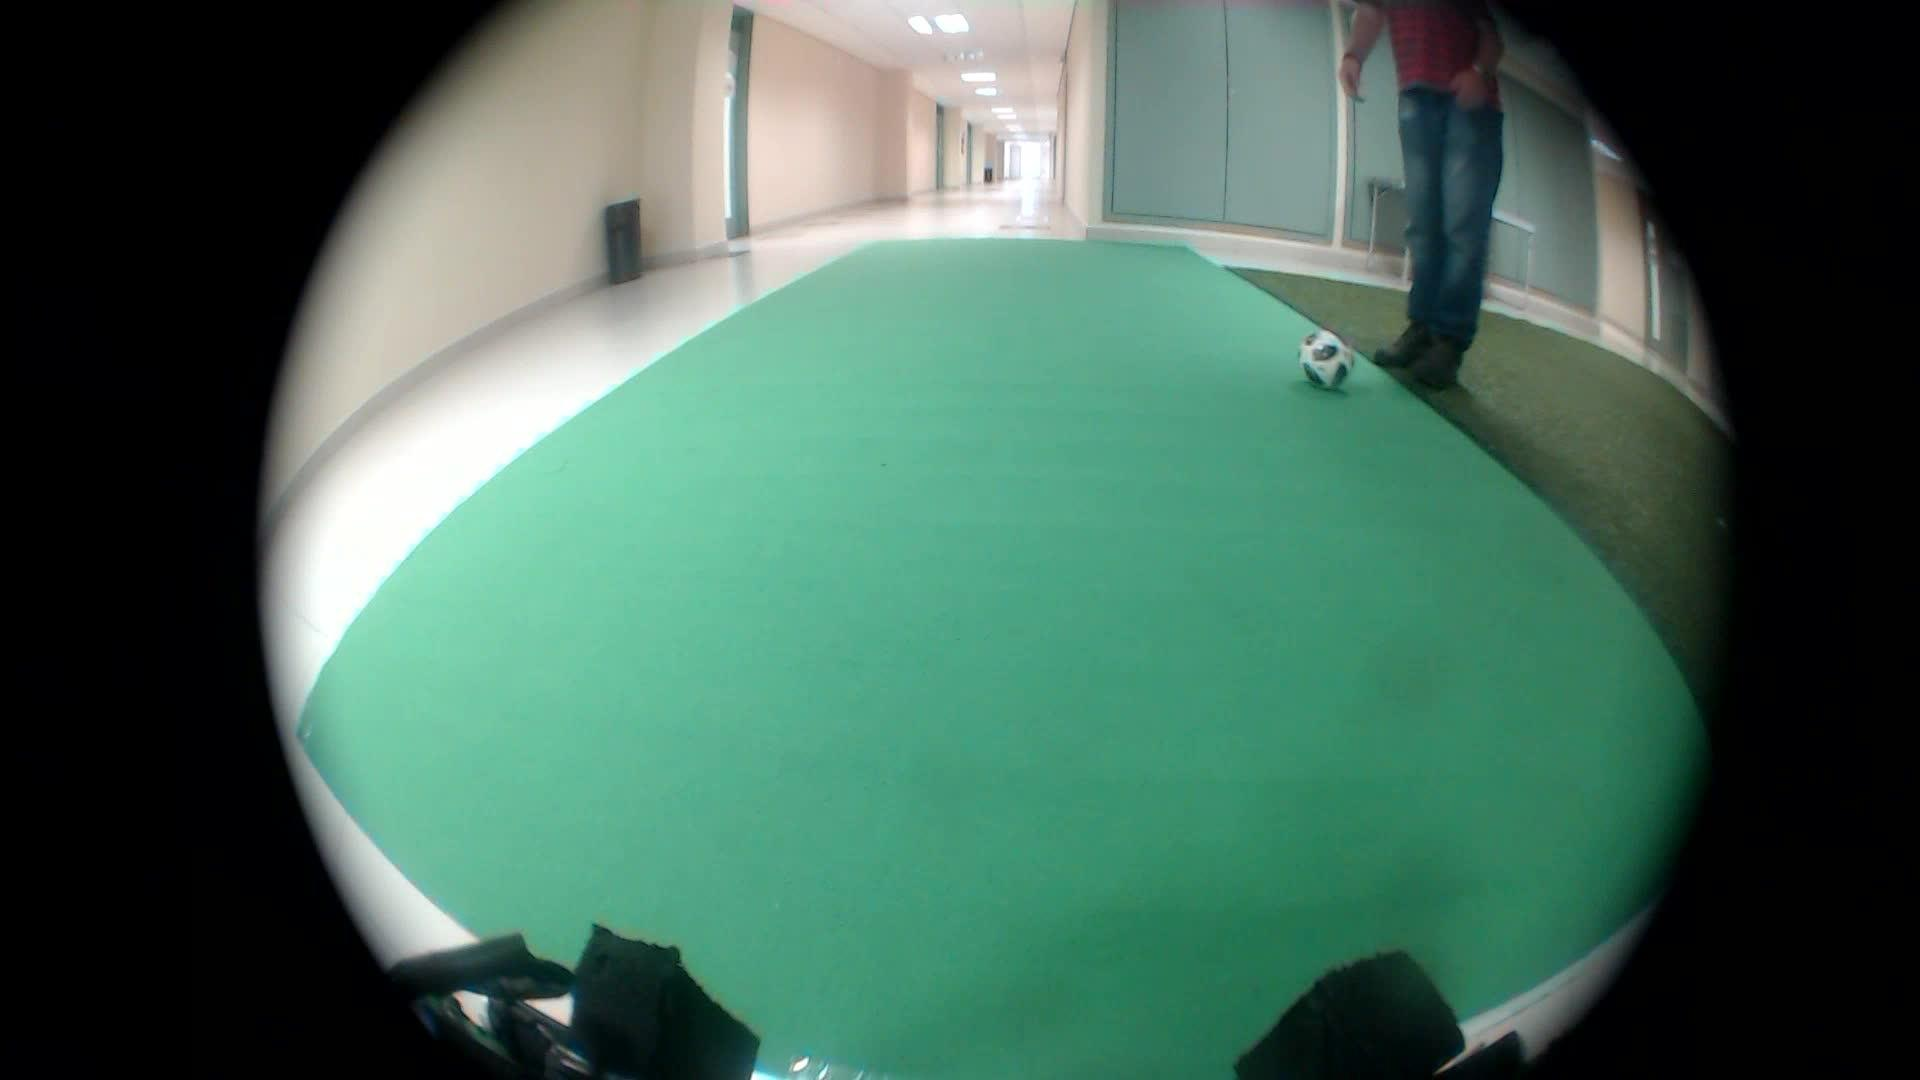ball: (1284, 320, 1357, 396)
